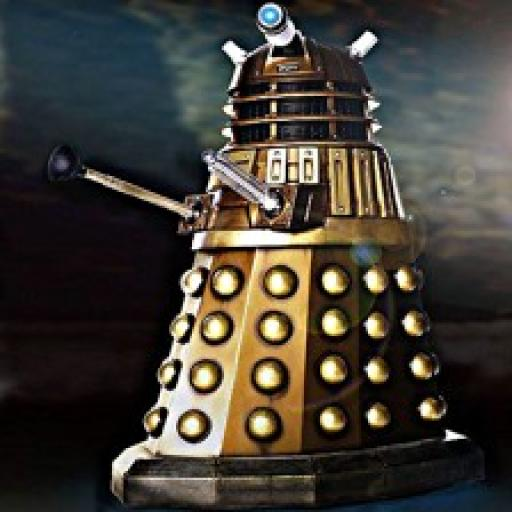dalek: (38, 2, 491, 508)
